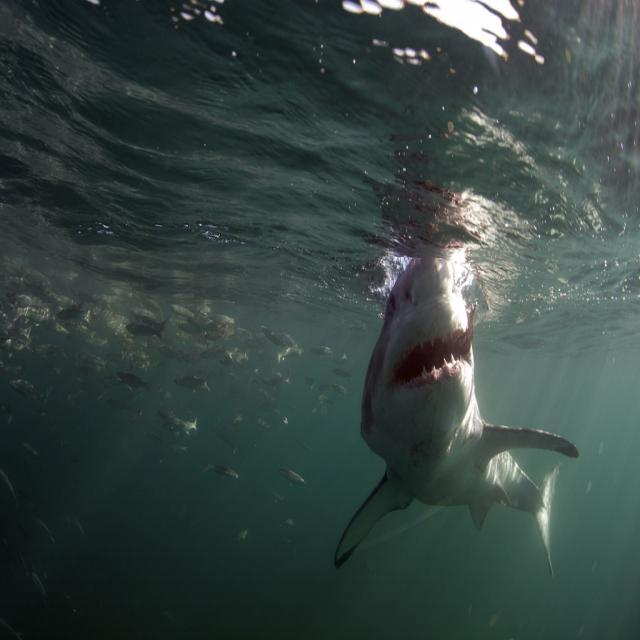Shark: (336, 252, 580, 576)
